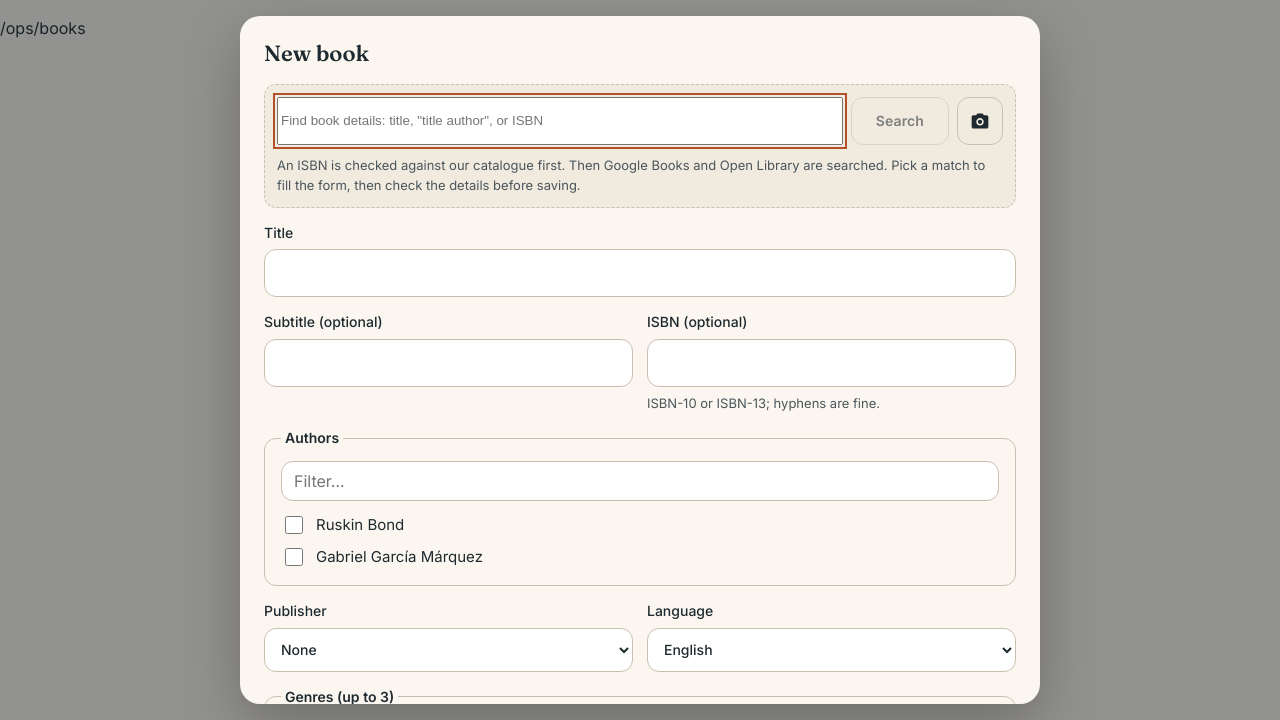
it: New book: find book details › does not fill a form someone has started, nor when the ISBN has no single match
Type "My own title" into the field labelled "Title" at (640, 274), box [264, 250, 1016, 298]
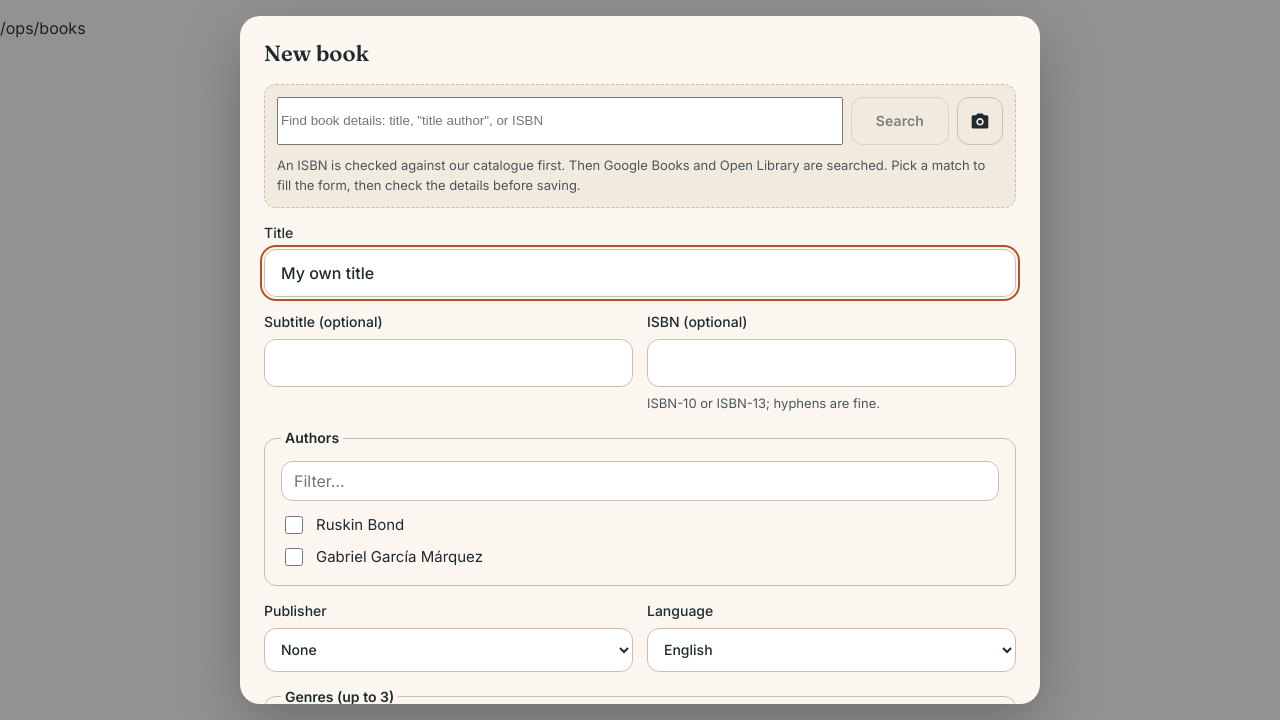
Type "9780306406157" into the search field labelled "Find book details" at (560, 120), box [277, 96, 843, 144]
Then press Enter
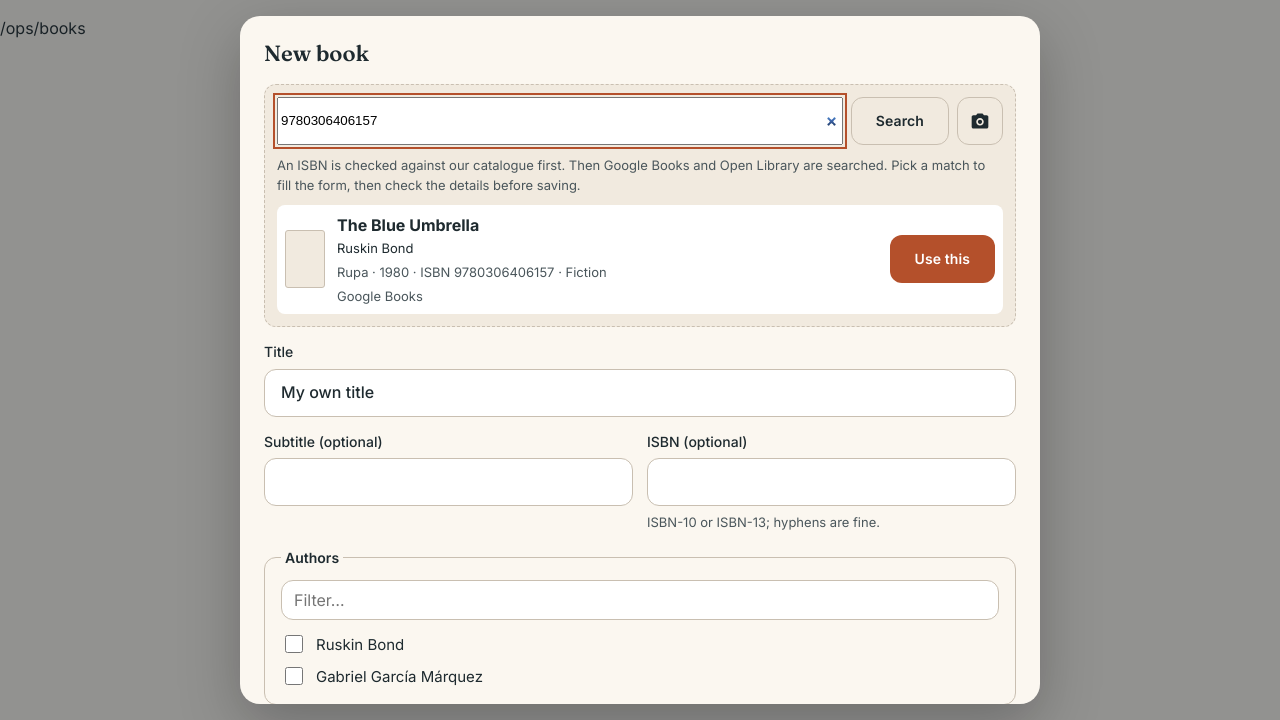
Click the button "Use this" at (942, 259), box [890, 235, 995, 283]
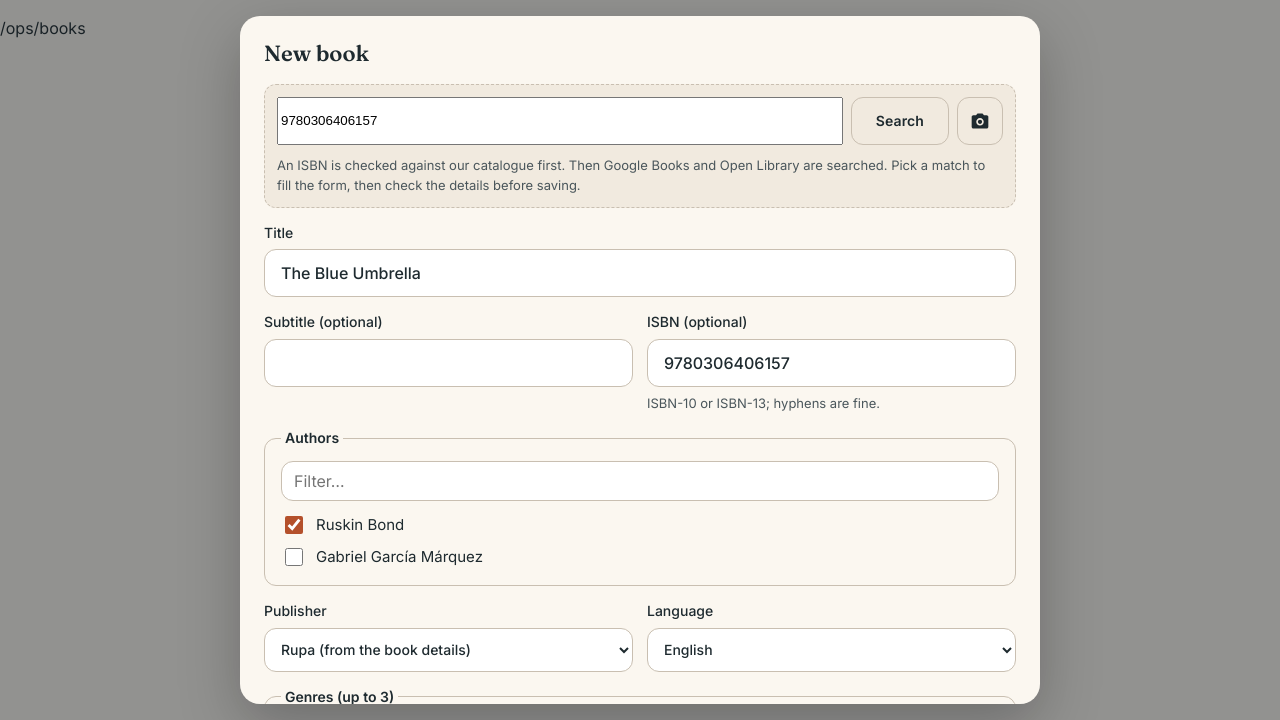
Now the field labelled "Title" holds "The Blue Umbrella", box [264, 250, 1016, 298]
Now the button "Use this" is gone
